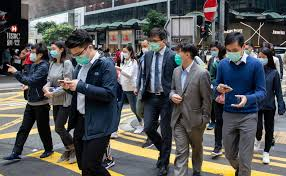mask: (66, 26, 96, 65), (223, 30, 249, 62), (173, 40, 199, 69), (143, 26, 169, 54), (255, 42, 272, 66), (47, 37, 63, 61), (25, 43, 42, 63), (207, 40, 221, 58), (121, 43, 133, 60)
